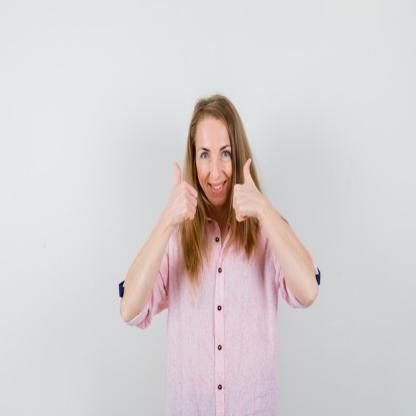thumb_up: (167, 159, 202, 228), (232, 156, 260, 225)
